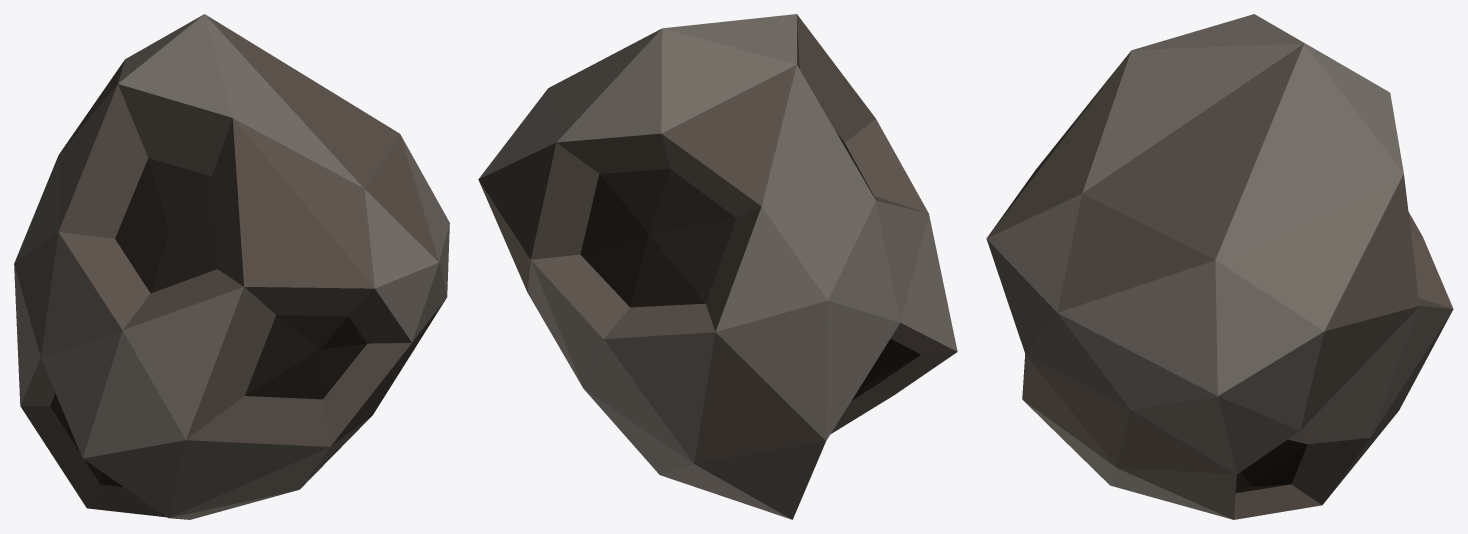
File: Asteroid4.fbx
3 views of the same model, side by side, from view 1: azimuth 30°, elevation 25°; view 2: azimuth 150°, elevation 25°; view 3: azimuth 270°, elevation 25° (orthographic). The views are drawn at different scales.
Parts seen in each view (by area): view 1: Asteroid4; view 2: Asteroid4; view 3: Asteroid4.
Part boxes in pixels (<box>): Asteroid4: <box>14,14,449,519</box>; Asteroid4: <box>478,14,957,519</box>; Asteroid4: <box>986,14,1453,519</box>.
Size of the model in its own units: 1.88 by 2.01 by 1.72.
